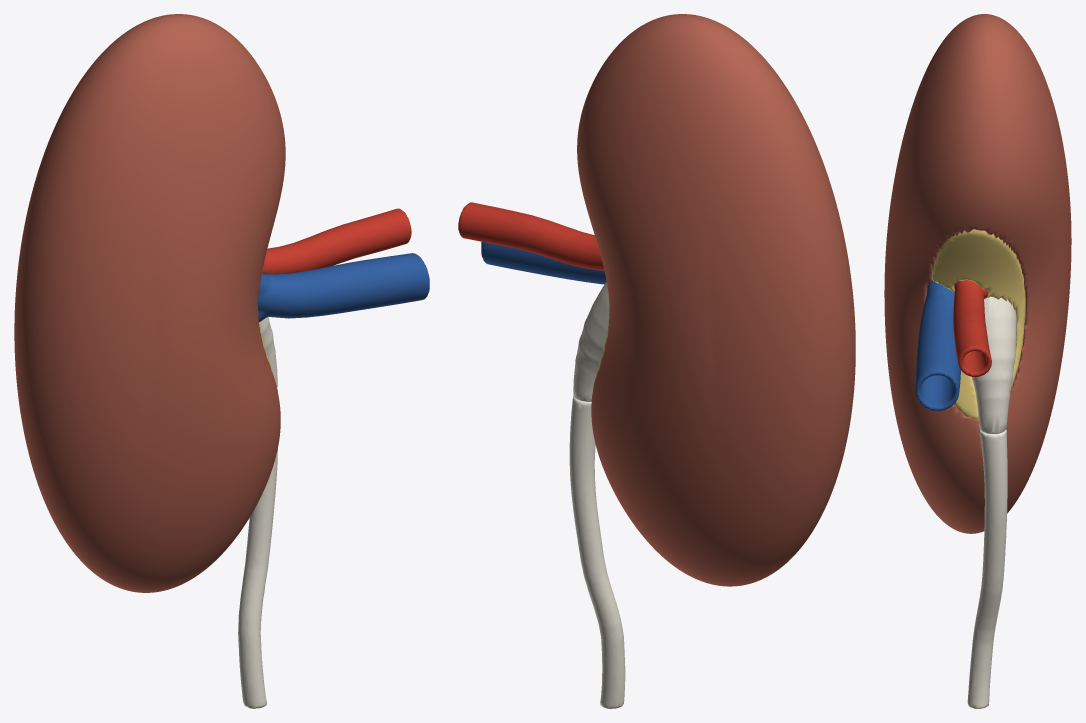
Rendered from source_kidney.glb.
3 views of the same model, side by side, from view 1: azimuth 30°, elevation 25°; view 2: azimuth 150°, elevation 25°; view 3: azimuth 270°, elevation 25° (orthographic). The views are drawn at different scales.
Parts seen in each view (by area): view 1: renal_cortex, renal_vein, ureter, renal_artery; view 2: renal_cortex, ureter, renal_artery, renal_pelvis, renal_vein; view 3: renal_cortex, ureter, renal_sinus, renal_vein, renal_pelvis, renal_artery.
Part boxes in pixels (x1,y1,x2,y2): renal_cortex: (14,14,285,592); renal_vein: (258,253,429,322); ureter: (238,387,277,708); renal_artery: (262,208,411,274); renal_cortex: (577,14,855,586); ureter: (569,396,625,708); renal_artery: (458,202,604,270); renal_pelvis: (573,282,608,401); renal_vein: (481,242,606,284); renal_cortex: (884,14,1071,533); ureter: (967,429,1007,708); renal_sinus: (931,229,1025,421); renal_vein: (915,278,960,410); renal_pelvis: (972,296,1016,433); renal_artery: (953,280,991,376).
Size of the model in its own units: 0.0785 by 0.1395 by 0.0366.
